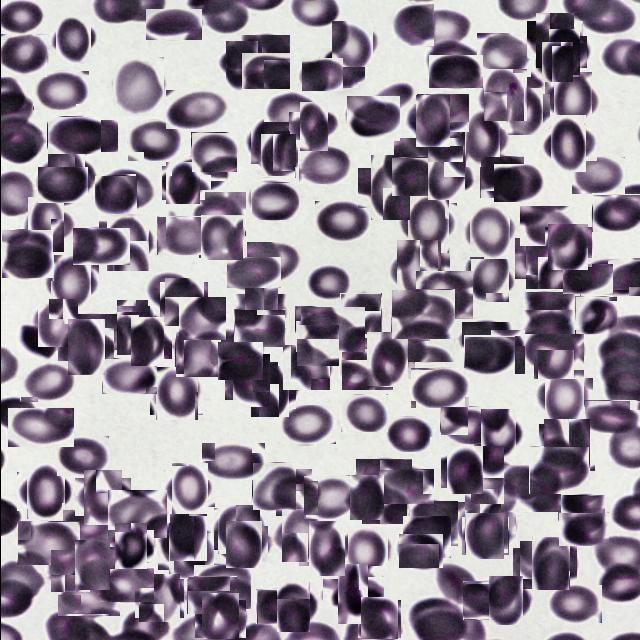red blood cell: (294, 306, 364, 352), (390, 289, 454, 339), (110, 59, 166, 114), (389, 317, 453, 362), (528, 446, 588, 494), (107, 490, 166, 538), (500, 465, 560, 512), (16, 521, 79, 565), (415, 271, 472, 319), (364, 162, 416, 214), (392, 244, 444, 296), (519, 232, 571, 284), (540, 422, 592, 474), (460, 498, 511, 549), (7, 408, 73, 447), (404, 8, 470, 47), (0, 229, 52, 278), (164, 89, 227, 129), (193, 565, 250, 609), (188, 192, 245, 236), (40, 150, 90, 200), (402, 199, 452, 249), (102, 218, 152, 268), (528, 325, 578, 375), (357, 82, 416, 124), (200, 442, 264, 480), (302, 475, 357, 519), (409, 367, 468, 408), (346, 96, 399, 141), (476, 33, 530, 77), (579, 257, 639, 296), (439, 406, 500, 444), (19, 360, 74, 402), (540, 374, 588, 422), (46, 258, 94, 306), (152, 370, 200, 418), (362, 334, 410, 382), (246, 242, 302, 283), (126, 119, 180, 161), (56, 580, 119, 616), (21, 468, 68, 516), (544, 120, 591, 168), (464, 208, 512, 255), (530, 17, 578, 64), (111, 304, 158, 352), (32, 70, 88, 110), (522, 291, 574, 334), (263, 90, 317, 131), (548, 76, 595, 123), (278, 512, 324, 560), (282, 344, 330, 390), (314, 201, 369, 241), (280, 406, 335, 446), (432, 564, 482, 608), (340, 348, 392, 390), (162, 528, 208, 575), (78, 474, 125, 520), (62, 324, 108, 371), (100, 168, 154, 208), (519, 206, 573, 246), (409, 501, 457, 546), (520, 310, 574, 350), (393, 138, 449, 176), (356, 459, 412, 497), (458, 116, 504, 162), (216, 506, 262, 552), (22, 202, 68, 248), (246, 368, 292, 414), (463, 452, 509, 498), (330, 571, 376, 617), (422, 150, 468, 196), (303, 525, 349, 571), (526, 540, 572, 586), (251, 462, 295, 510), (72, 228, 129, 265), (56, 436, 108, 476), (467, 252, 512, 298), (228, 358, 273, 404), (415, 93, 468, 132), (547, 585, 601, 623), (62, 314, 119, 350), (210, 326, 264, 364), (46, 116, 100, 154), (463, 336, 514, 376), (136, 575, 181, 620), (238, 288, 282, 334), (174, 332, 220, 376), (178, 297, 225, 340), (402, 516, 450, 558), (571, 157, 624, 195), (297, 146, 350, 184), (429, 40, 479, 80), (345, 530, 390, 574), (101, 358, 156, 394), (0, 34, 46, 77), (377, 469, 433, 504), (156, 216, 206, 255), (461, 322, 512, 360), (238, 34, 289, 72), (96, 568, 153, 602), (233, 309, 284, 347), (329, 22, 373, 66), (36, 301, 80, 345), (161, 280, 205, 324), (199, 215, 243, 259), (197, 596, 241, 640), (546, 225, 590, 269), (167, 466, 210, 511), (57, 120, 117, 152), (462, 581, 511, 620), (186, 576, 236, 614), (318, 47, 364, 88), (190, 132, 237, 172), (493, 164, 542, 202), (583, 400, 639, 433), (476, 412, 518, 456), (479, 156, 523, 198), (410, 100, 454, 142), (382, 416, 433, 452), (250, 182, 298, 220), (339, 394, 387, 432), (144, 8, 201, 40), (591, 194, 639, 232), (240, 52, 289, 89), (248, 121, 291, 163), (52, 18, 94, 61), (295, 324, 338, 366), (463, 515, 506, 557), (173, 156, 226, 190), (37, 167, 87, 203), (428, 55, 482, 88), (272, 471, 314, 513), (222, 523, 264, 565), (166, 517, 208, 559), (70, 544, 112, 586), (444, 449, 486, 491), (272, 586, 314, 628), (484, 580, 526, 622), (557, 512, 608, 546), (303, 265, 351, 301), (516, 544, 557, 586), (340, 292, 381, 334), (504, 91, 546, 132), (126, 321, 167, 363), (390, 157, 434, 196), (559, 495, 604, 533), (217, 342, 262, 380), (49, 550, 90, 591), (220, 46, 262, 86), (358, 598, 398, 640), (226, 257, 280, 288), (95, 175, 136, 215), (361, 488, 406, 524), (256, 589, 302, 624), (110, 526, 150, 566), (257, 136, 297, 176), (488, 332, 528, 372), (346, 477, 386, 517), (574, 296, 616, 334), (395, 4, 433, 46), (397, 533, 442, 568), (63, 510, 109, 544), (294, 106, 332, 146), (544, 32, 582, 72), (562, 264, 612, 294), (164, 164, 202, 202), (300, 58, 342, 92), (147, 272, 187, 306), (538, 44, 574, 80)
ring: (480, 71, 528, 119)
